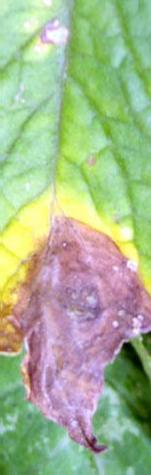Tomato Early blight leaf: (0, 0, 151, 472)
